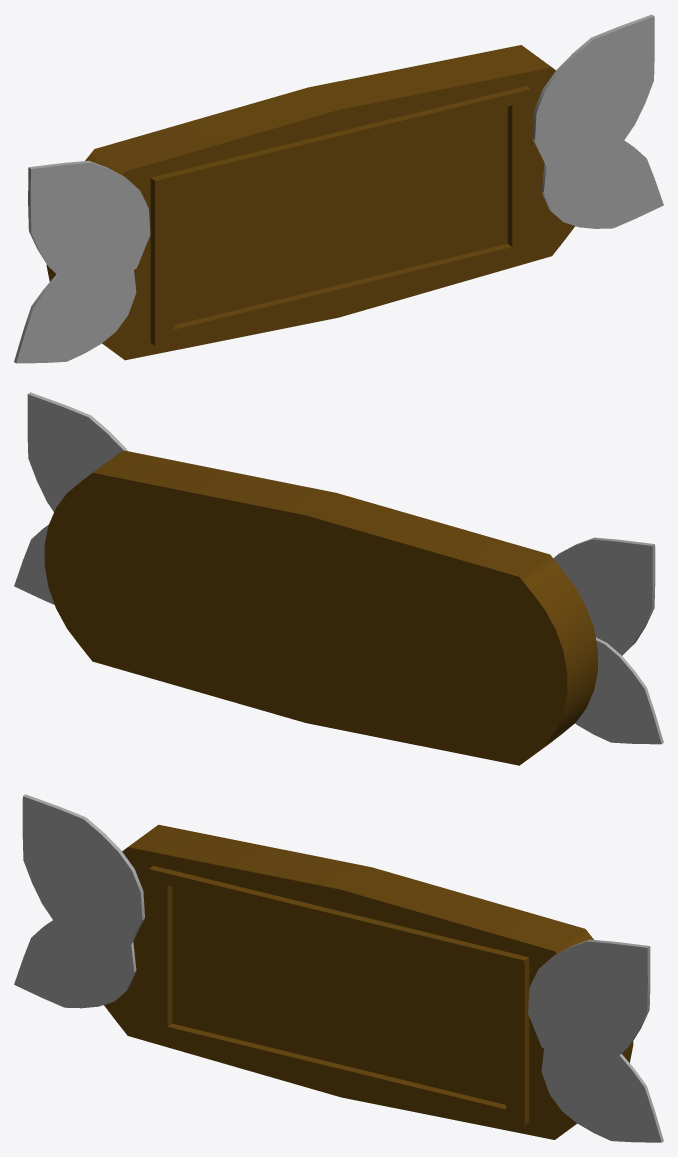
Rendered from PlayButton.fbx.
3 views of the same model, one above another, from view 1: azimuth 30°, elevation 25°; view 2: azimuth 150°, elevation 25°; view 3: azimuth 330°, elevation 25° (orthographic).
Visible parts, largest first — view 1: Button, Leaf (×2), Leaf2 (×2); view 2: Button, Leaf (×2), Leaf2 (×2); view 3: Button, Leaf (×2), Leaf2 (×2).
Boxes of the visible parts, bbox=[...] form: Button: bbox=[46, 45, 575, 360]; Leaf (×2): bbox=[28, 14, 654, 287]; Leaf2 (×2): bbox=[14, 140, 663, 363]; Button: bbox=[44, 450, 597, 765]; Leaf (×2): bbox=[27, 392, 655, 655]; Leaf2 (×2): bbox=[14, 525, 663, 744]; Button: bbox=[104, 824, 633, 1139]; Leaf (×2): bbox=[22, 794, 650, 1066]; Leaf2 (×2): bbox=[14, 920, 663, 1142].
Size of the model in its own units: 20.29 by 6.85 by 1.96.
